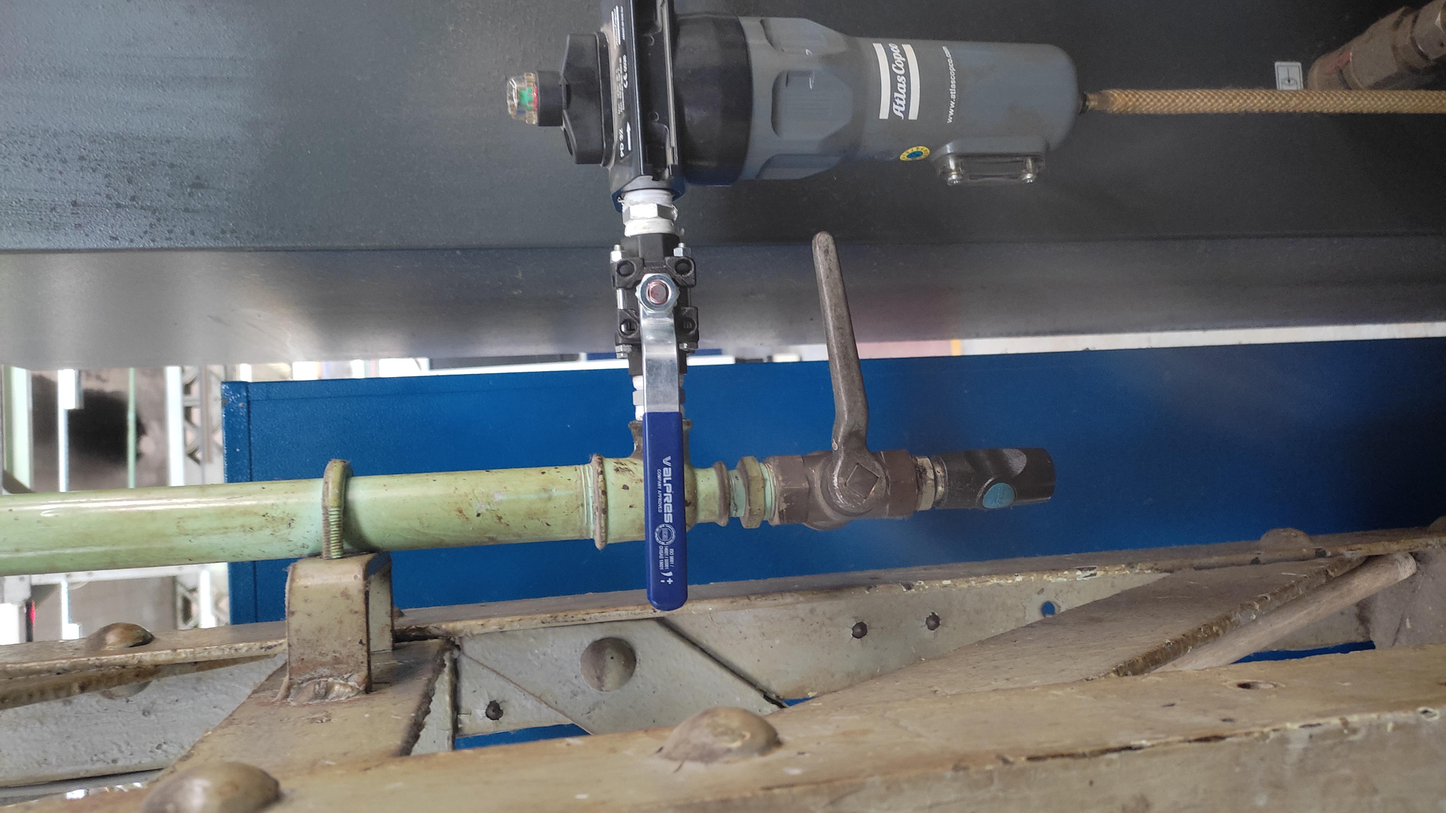closed valve: (763, 219, 924, 536)
opened valve: (609, 229, 706, 612)
